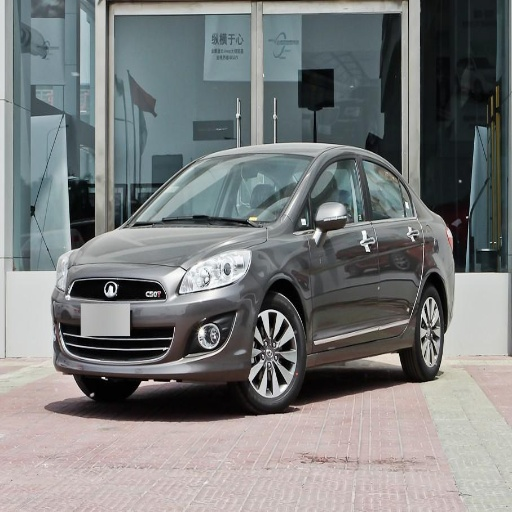front_bumper: (51, 265, 262, 383)
front_glass: (124, 155, 312, 226)
front_left_door: (307, 154, 379, 342)
